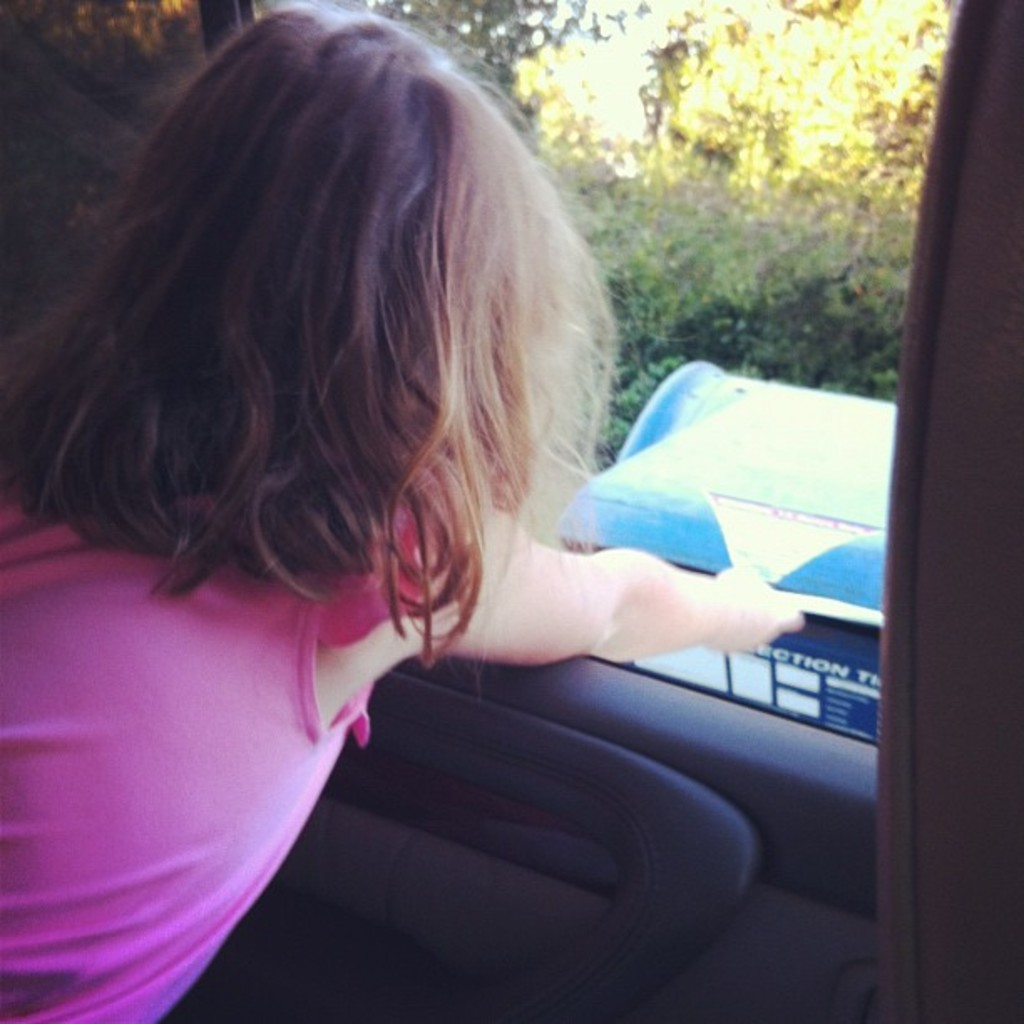Human_hand: (699, 557, 806, 656)
